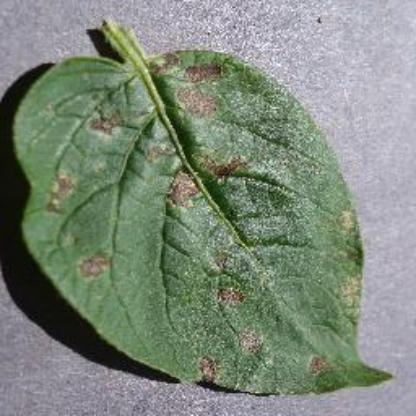Early-Blight: (7, 13, 411, 398)
